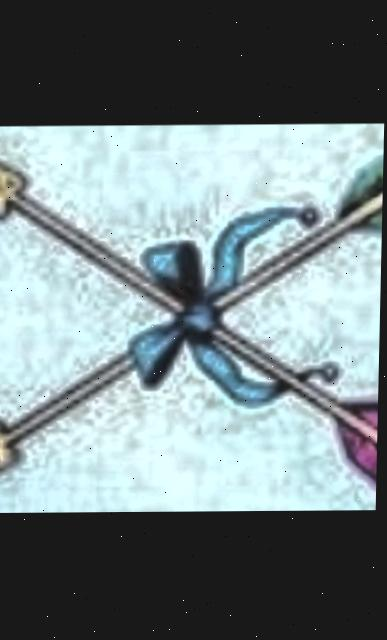Las Jaras: (0, 124, 385, 513)
